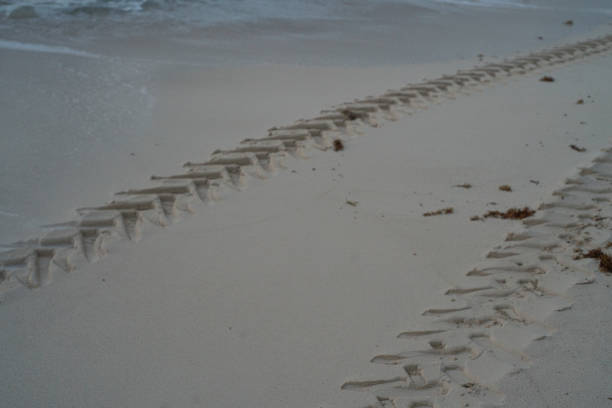vehicle_track: (0, 35, 611, 294), (342, 149, 611, 407)
